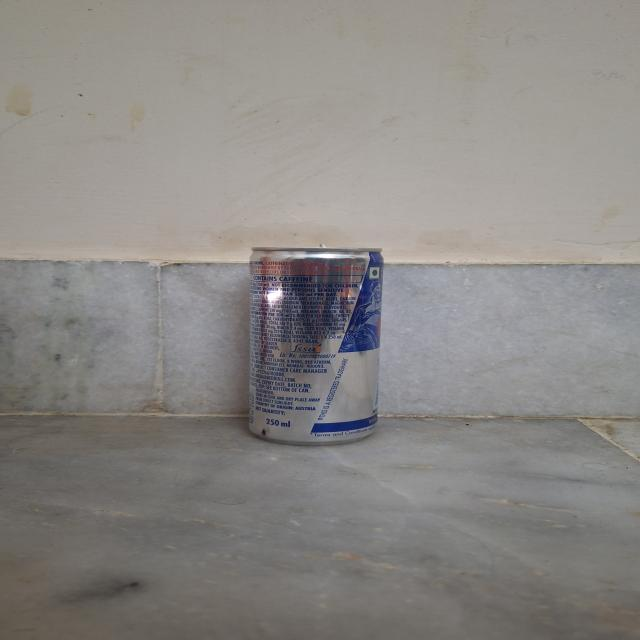Redbull DanceYourStyle: (234, 247, 407, 450)
